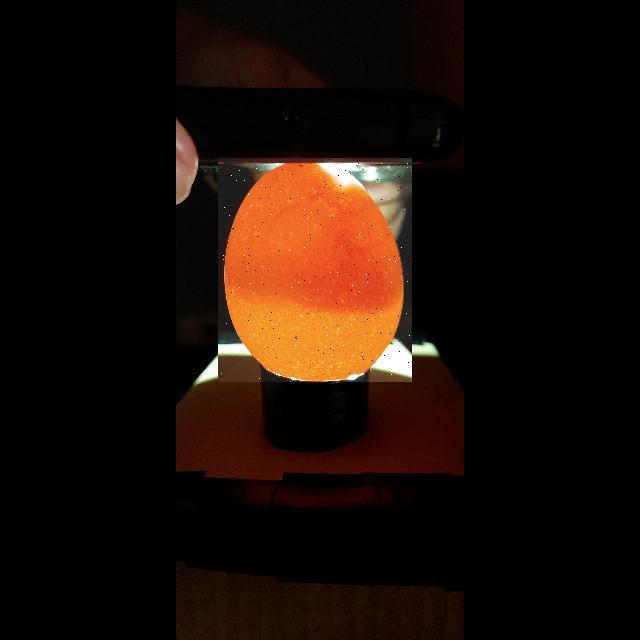Fertile: (218, 158, 412, 382)
